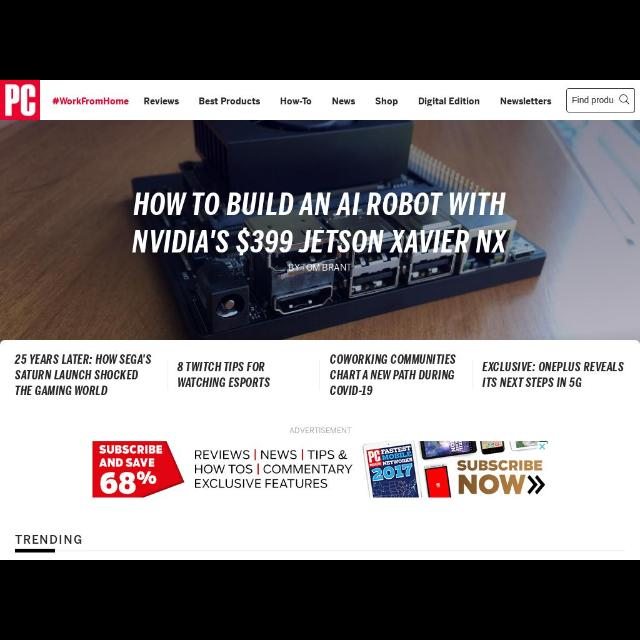backgroundimage: (0, 120, 638, 340)
icon: (619, 95, 631, 105)
iframe: (92, 442, 550, 496)
image: (0, 82, 40, 120)
input: (566, 88, 636, 112)
text: (132, 192, 508, 254), (14, 354, 152, 396), (330, 354, 456, 396), (482, 360, 624, 388), (177, 362, 271, 388), (15, 535, 83, 545), (418, 97, 480, 107), (53, 98, 129, 106), (199, 96, 261, 105), (288, 264, 352, 272), (289, 426, 351, 434), (500, 96, 552, 105), (572, 96, 614, 106), (144, 96, 180, 105), (280, 96, 312, 105), (375, 97, 399, 107), (332, 96, 356, 105)
toolbar: (1, 80, 640, 120)
